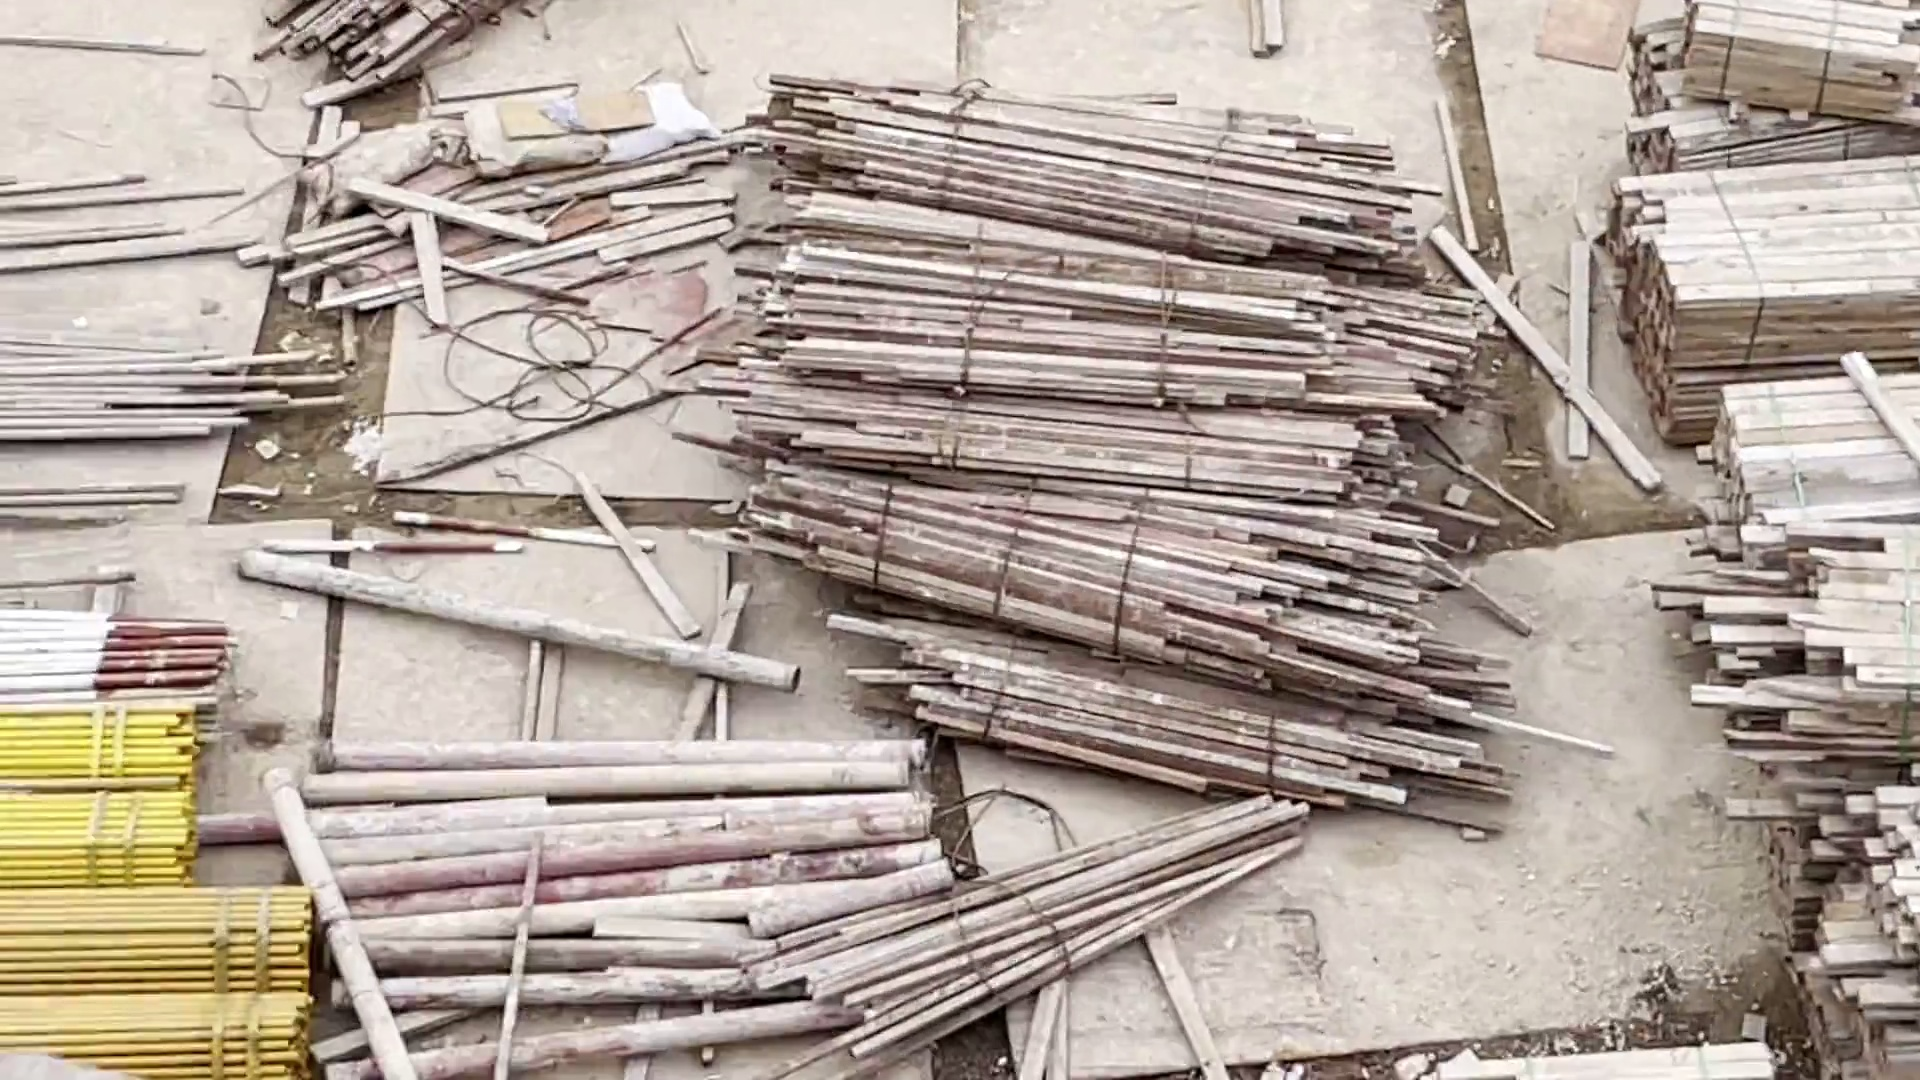wood: (746, 67, 1487, 777), (1700, 386, 1920, 1004), (1613, 175, 1915, 433), (1642, 15, 1913, 175)
